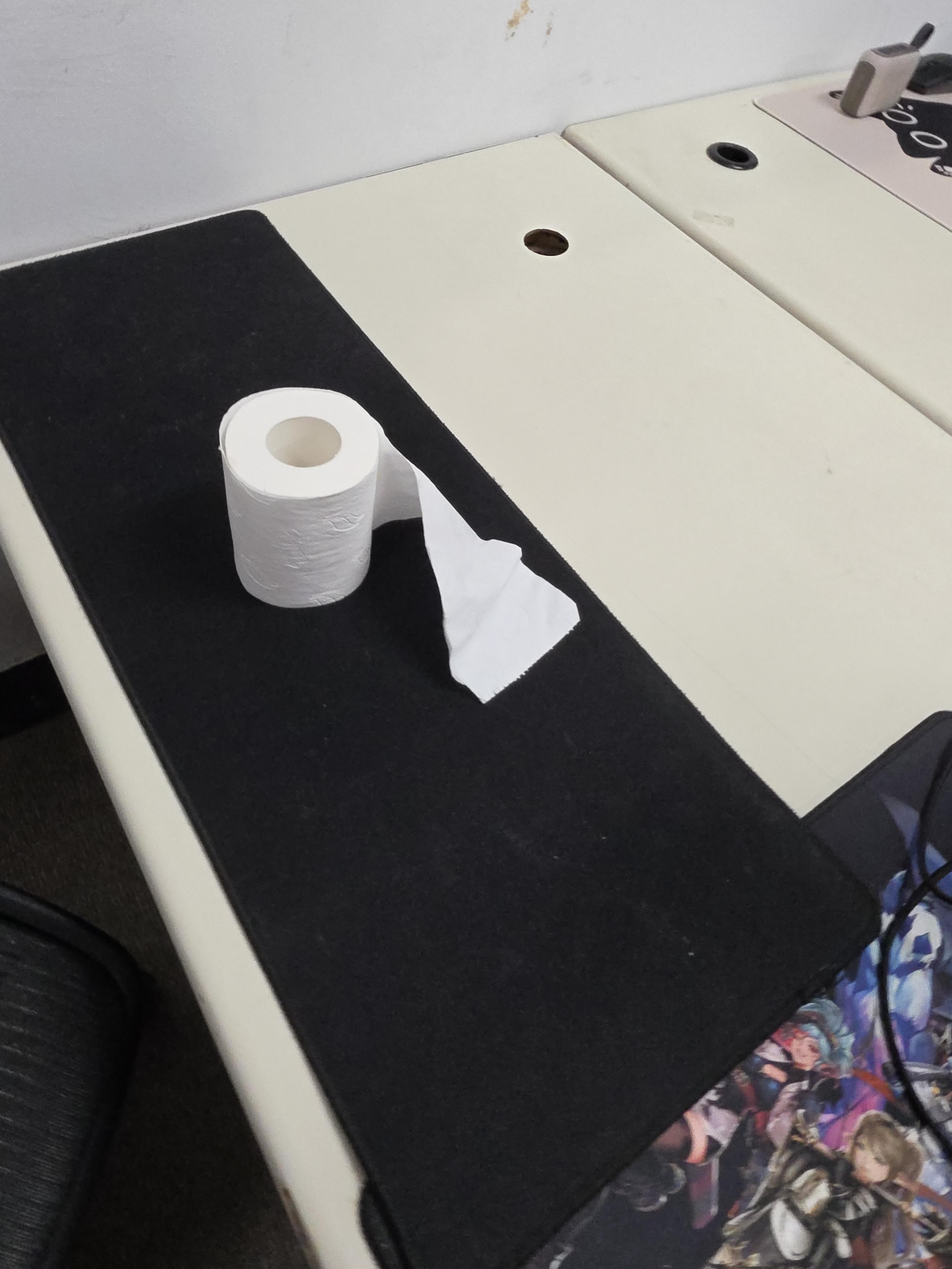tissue: (218, 387, 581, 705)
